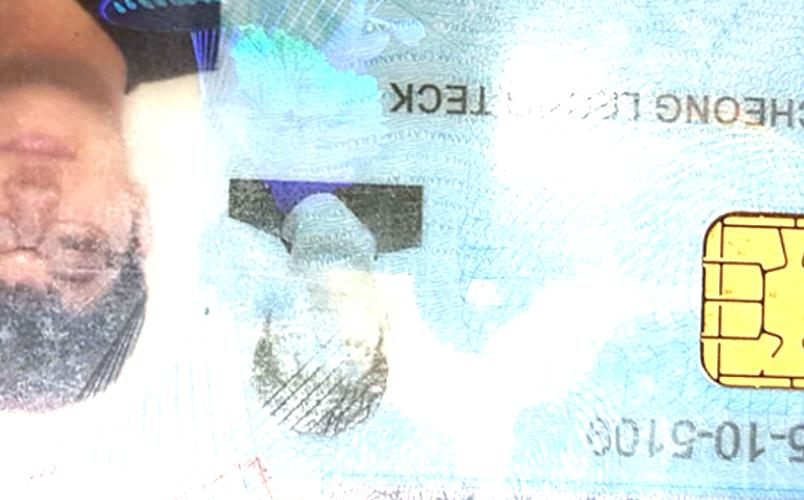hologramB: (218, 4, 385, 178)
